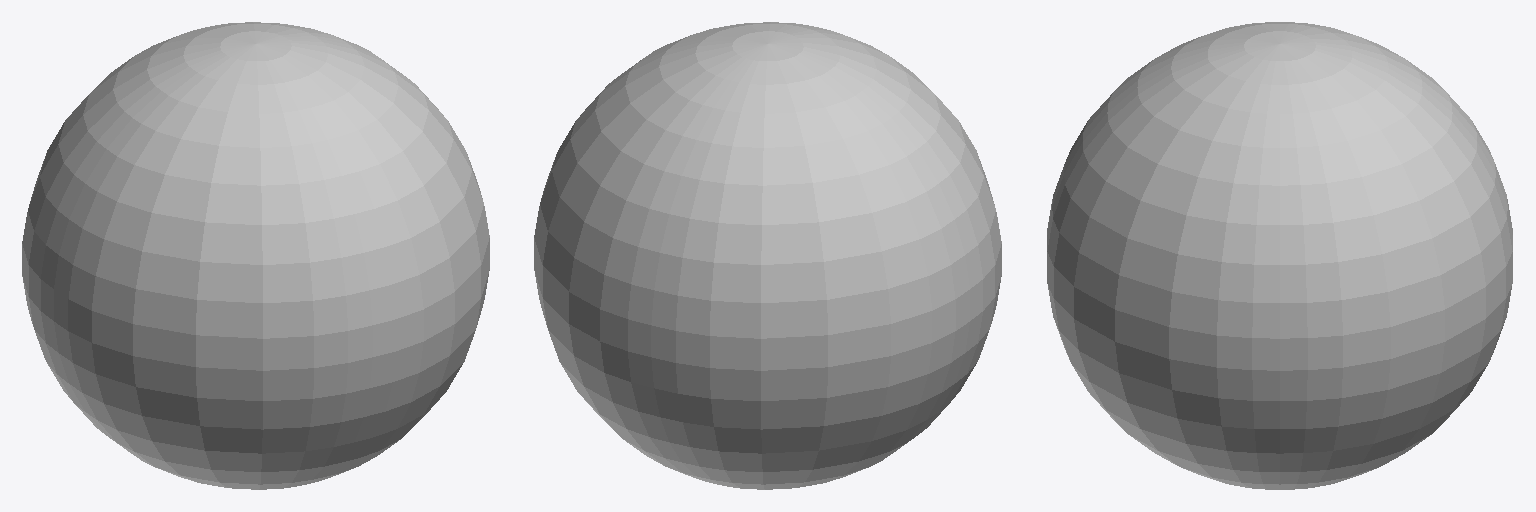
Rendered from terra.obj.
3 renders of one model, left to right at view 1: azimuth 30°, elevation 25°; view 2: azimuth 150°, elevation 25°; view 3: azimuth 270°, elevation 25°, orthographic.
Parts seen in each view (by area): view 1: SurfSphere.002; view 2: SurfSphere.002; view 3: SurfSphere.002.
Boxes of the visible parts, x1,y1,x2,y2 form: SurfSphere.002: [22, 22, 489, 489]; SurfSphere.002: [534, 22, 1001, 489]; SurfSphere.002: [1047, 22, 1512, 489].
Size of the model in its own units: 5.43 by 5.44 by 5.43.